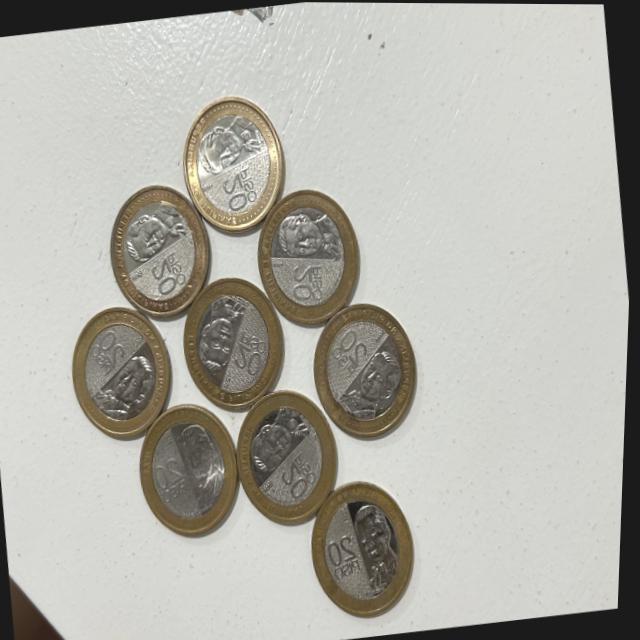20_New_Front: (206, 159, 270, 219), (323, 525, 376, 592), (225, 322, 271, 391), (278, 449, 329, 508), (135, 250, 195, 300), (143, 451, 194, 506), (84, 325, 133, 378), (279, 257, 330, 306), (323, 334, 381, 376)
